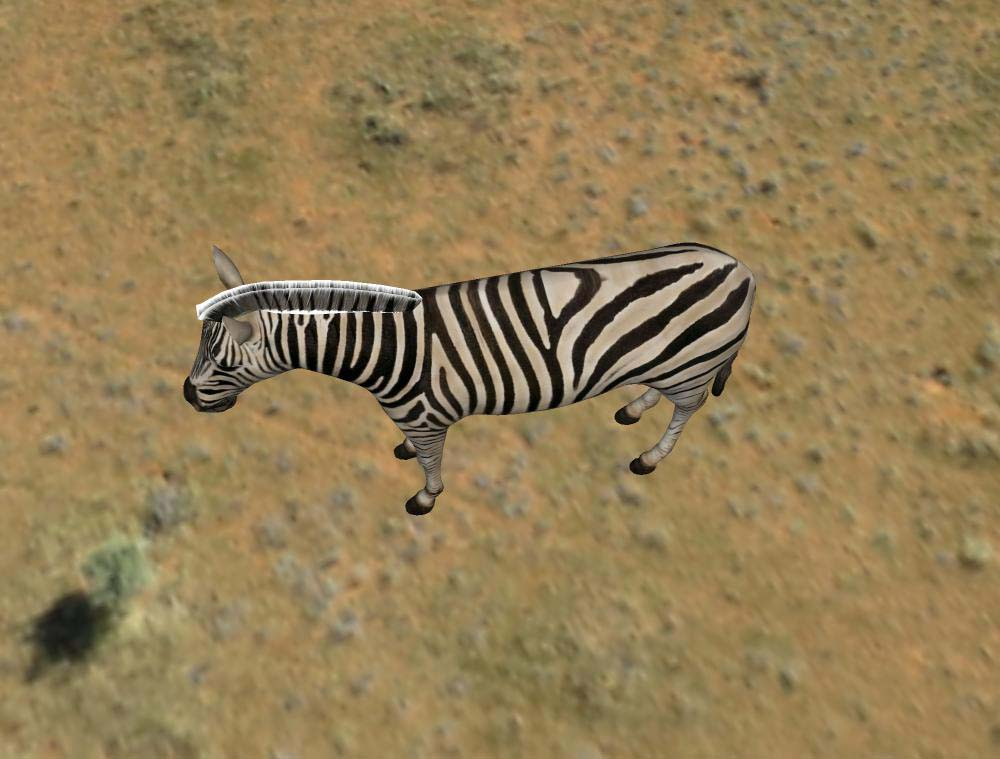zebra: (183, 240, 766, 521)
